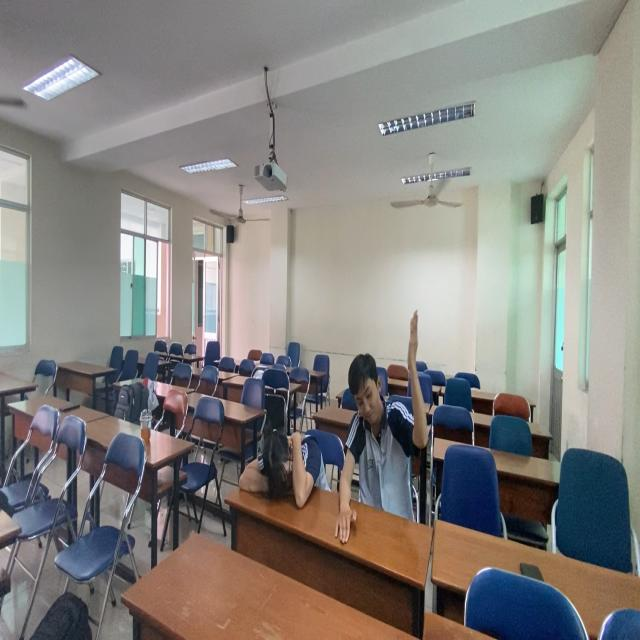raise_hand: (346, 299, 430, 531)
sleep: (234, 391, 334, 519)
